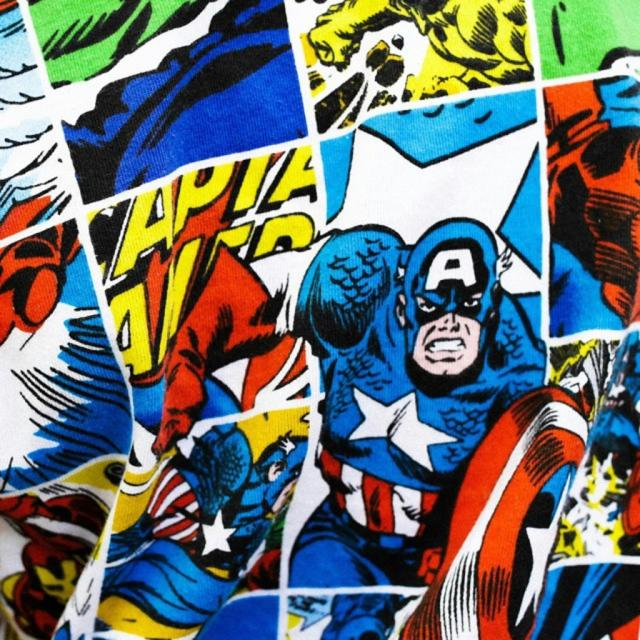Person: (150, 216, 588, 640)
